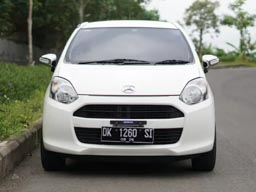plat: (101, 126, 153, 138)
